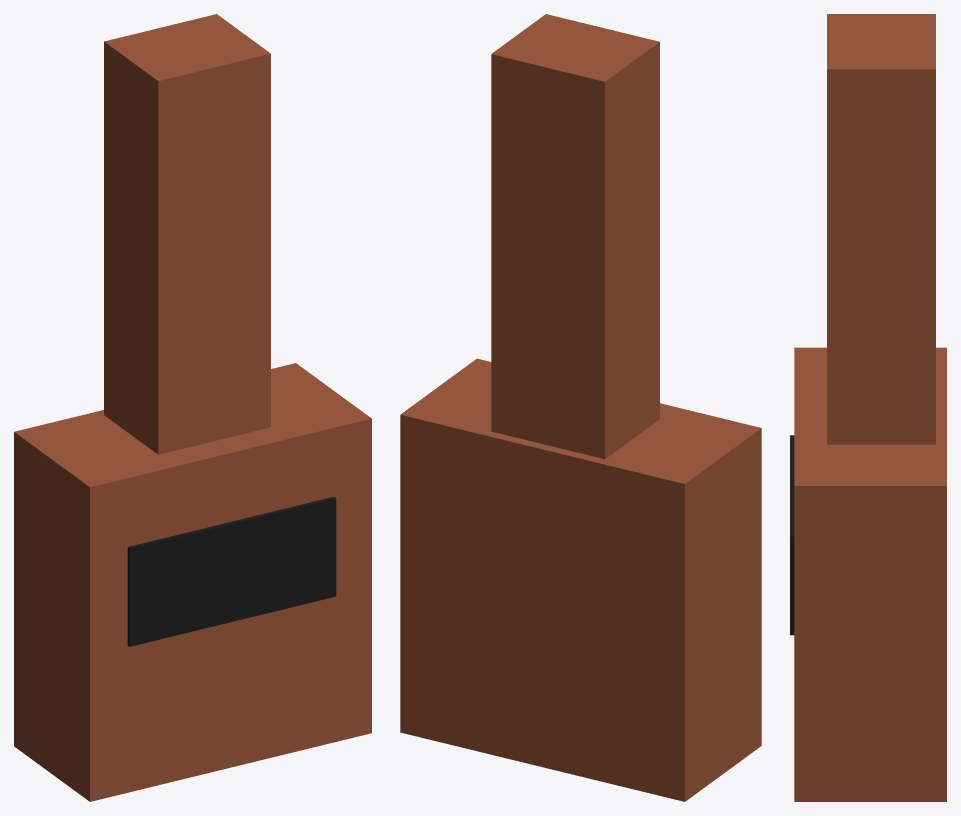
The model's file is grill.obj.
The picture shows the model from 3 angles, left to right: view 1: azimuth 30°, elevation 25°; view 2: azimuth 150°, elevation 25°; view 3: azimuth 270°, elevation 25°; orthographic projection.
Visible parts, largest first — view 1: grill_0, grill_2, grill_1; view 2: grill_0, grill_2; view 3: grill_0, grill_2, grill_1.
Part boxes in pixels (box(x1,y1,x2,y2)): grill_0: box(14, 363, 371, 801); grill_2: box(104, 14, 270, 454); grill_1: box(127, 496, 336, 646); grill_0: box(400, 358, 761, 801); grill_2: box(491, 14, 659, 459); grill_0: box(794, 347, 946, 801); grill_2: box(827, 14, 935, 444); grill_1: box(790, 435, 794, 635).
Size of the model in its own units: 1.5 by 3.5 by 0.72.
